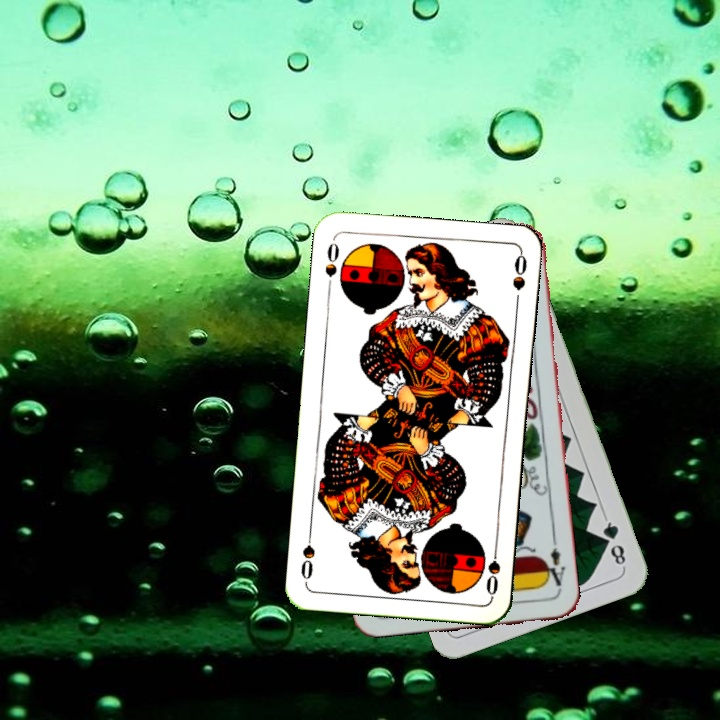EA: (541, 535, 568, 594)
G8: (598, 513, 629, 570)
SO: (482, 539, 503, 599), (321, 235, 342, 294)
